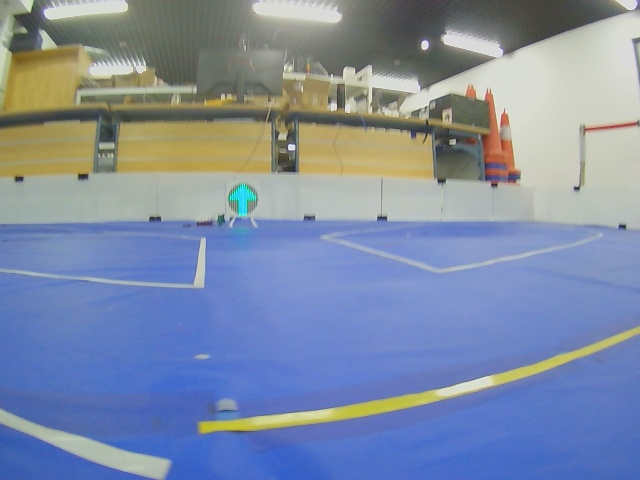straight_green: (227, 183, 259, 217)
